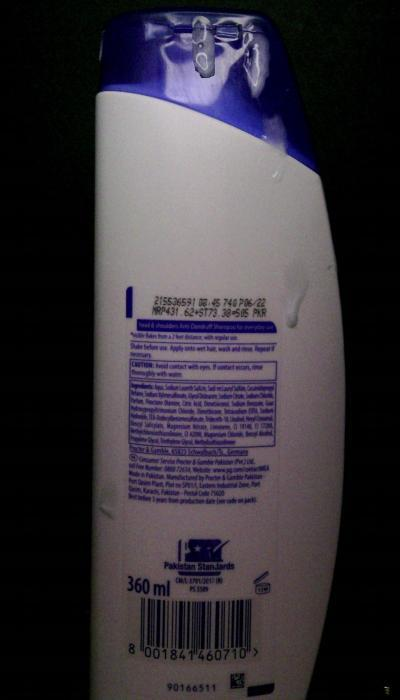pob_unacc: (223, 14, 276, 101), (278, 266, 316, 333), (185, 12, 220, 84), (258, 112, 293, 183), (97, 470, 120, 528)
